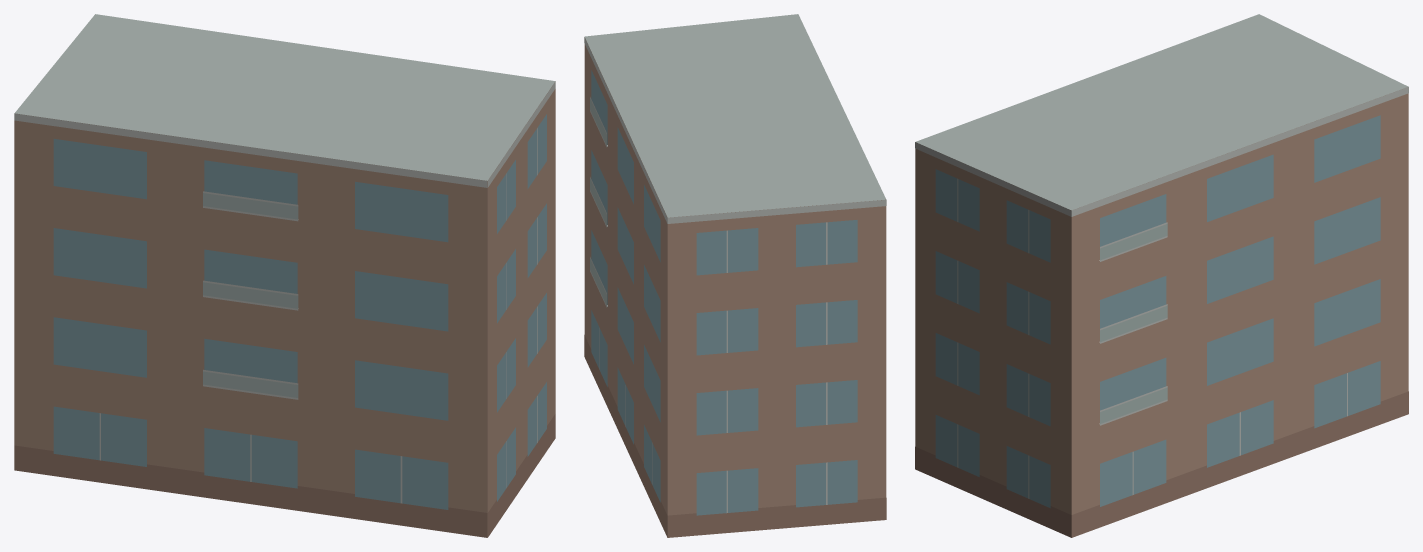
File: survey-upis-32665733.glb
3 renders of one model, left to right at view 1: azimuth 30°, elevation 25°; view 2: azimuth 150°, elevation 25°; view 3: azimuth 270°, elevation 25°, orthographic. The views are drawn at different scales.
Parts seen in each view (by area): view 1: survey-upis-32665733.tmp; view 2: survey-upis-32665733.tmp; view 3: survey-upis-32665733.tmp.
Part boxes in pixels (x1,y1,x2,y2): survey-upis-32665733.tmp: (14,14,555,537); survey-upis-32665733.tmp: (584,14,886,537); survey-upis-32665733.tmp: (915,14,1408,537).
Size of the model in its own units: 15.71 by 12.2 by 16.67.
